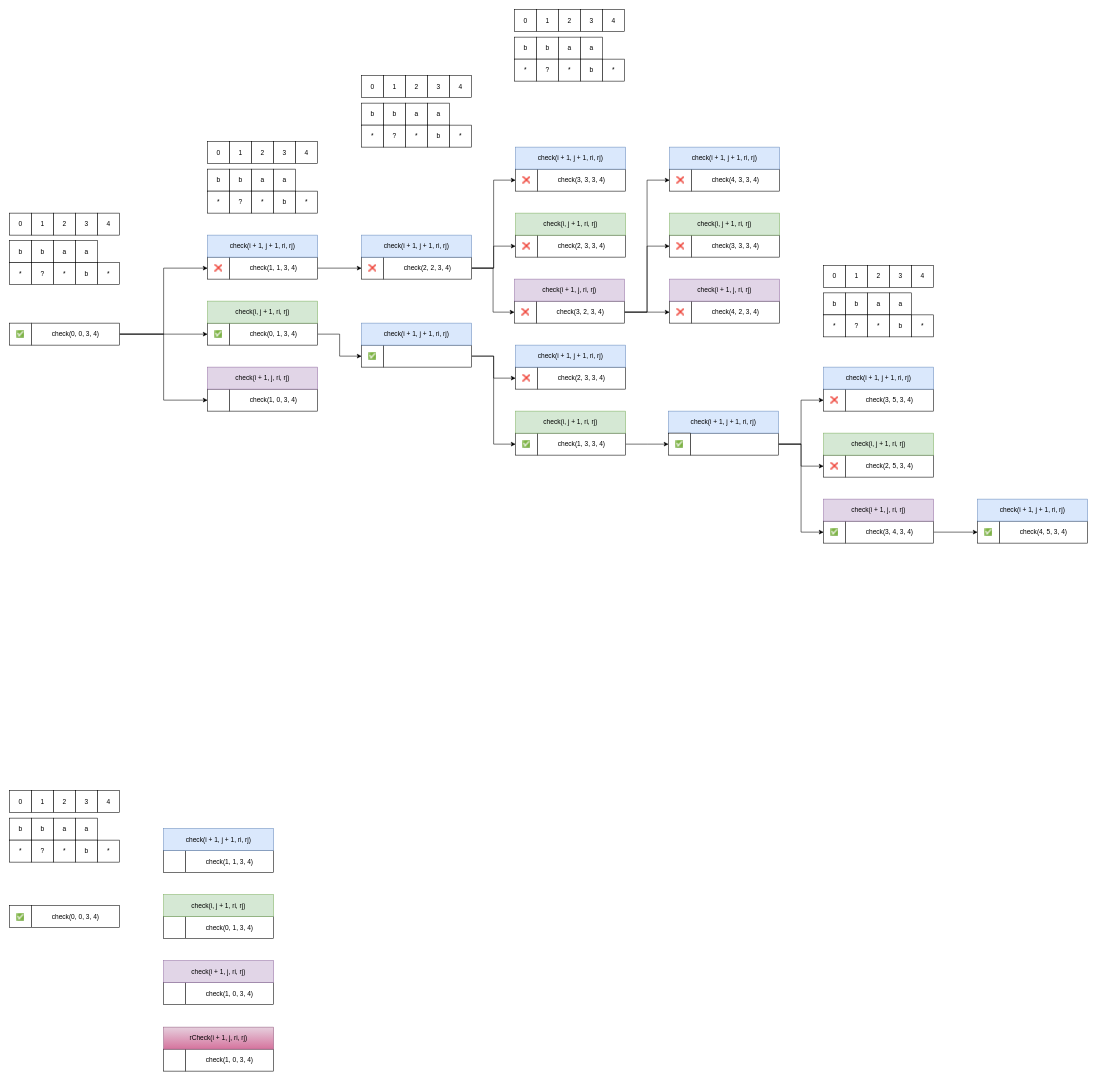
The diagram is 1097 pixels wide and 1081 high, and some of its shapes have lost their labels. Each missing label, with the centre of its shape:
"check(1, 2, 3, 4)" goes at pixel 427 356.
"check(2, 4, 3, 4)" goes at pixel 734 444.
